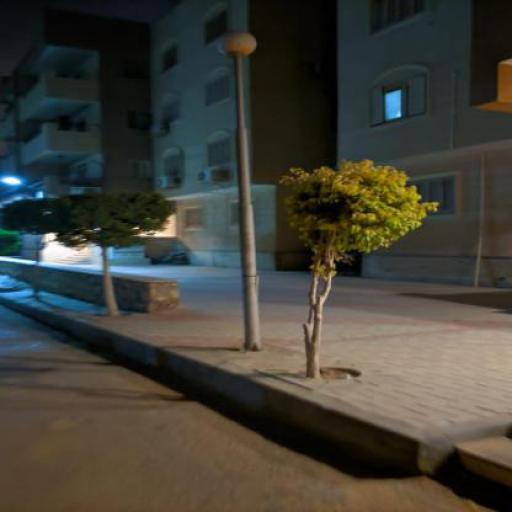street light: (214, 31, 264, 350), (2, 177, 46, 265)
